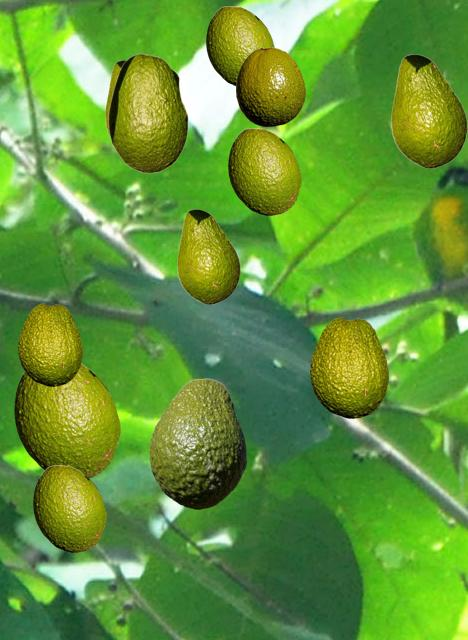avocado: (149, 378, 245, 508), (14, 363, 119, 478), (108, 53, 187, 172), (391, 54, 466, 167), (310, 317, 387, 417), (33, 465, 105, 551), (228, 128, 300, 214), (177, 209, 239, 303), (206, 6, 274, 86), (236, 47, 304, 125), (18, 303, 81, 385), (105, 60, 124, 137)
